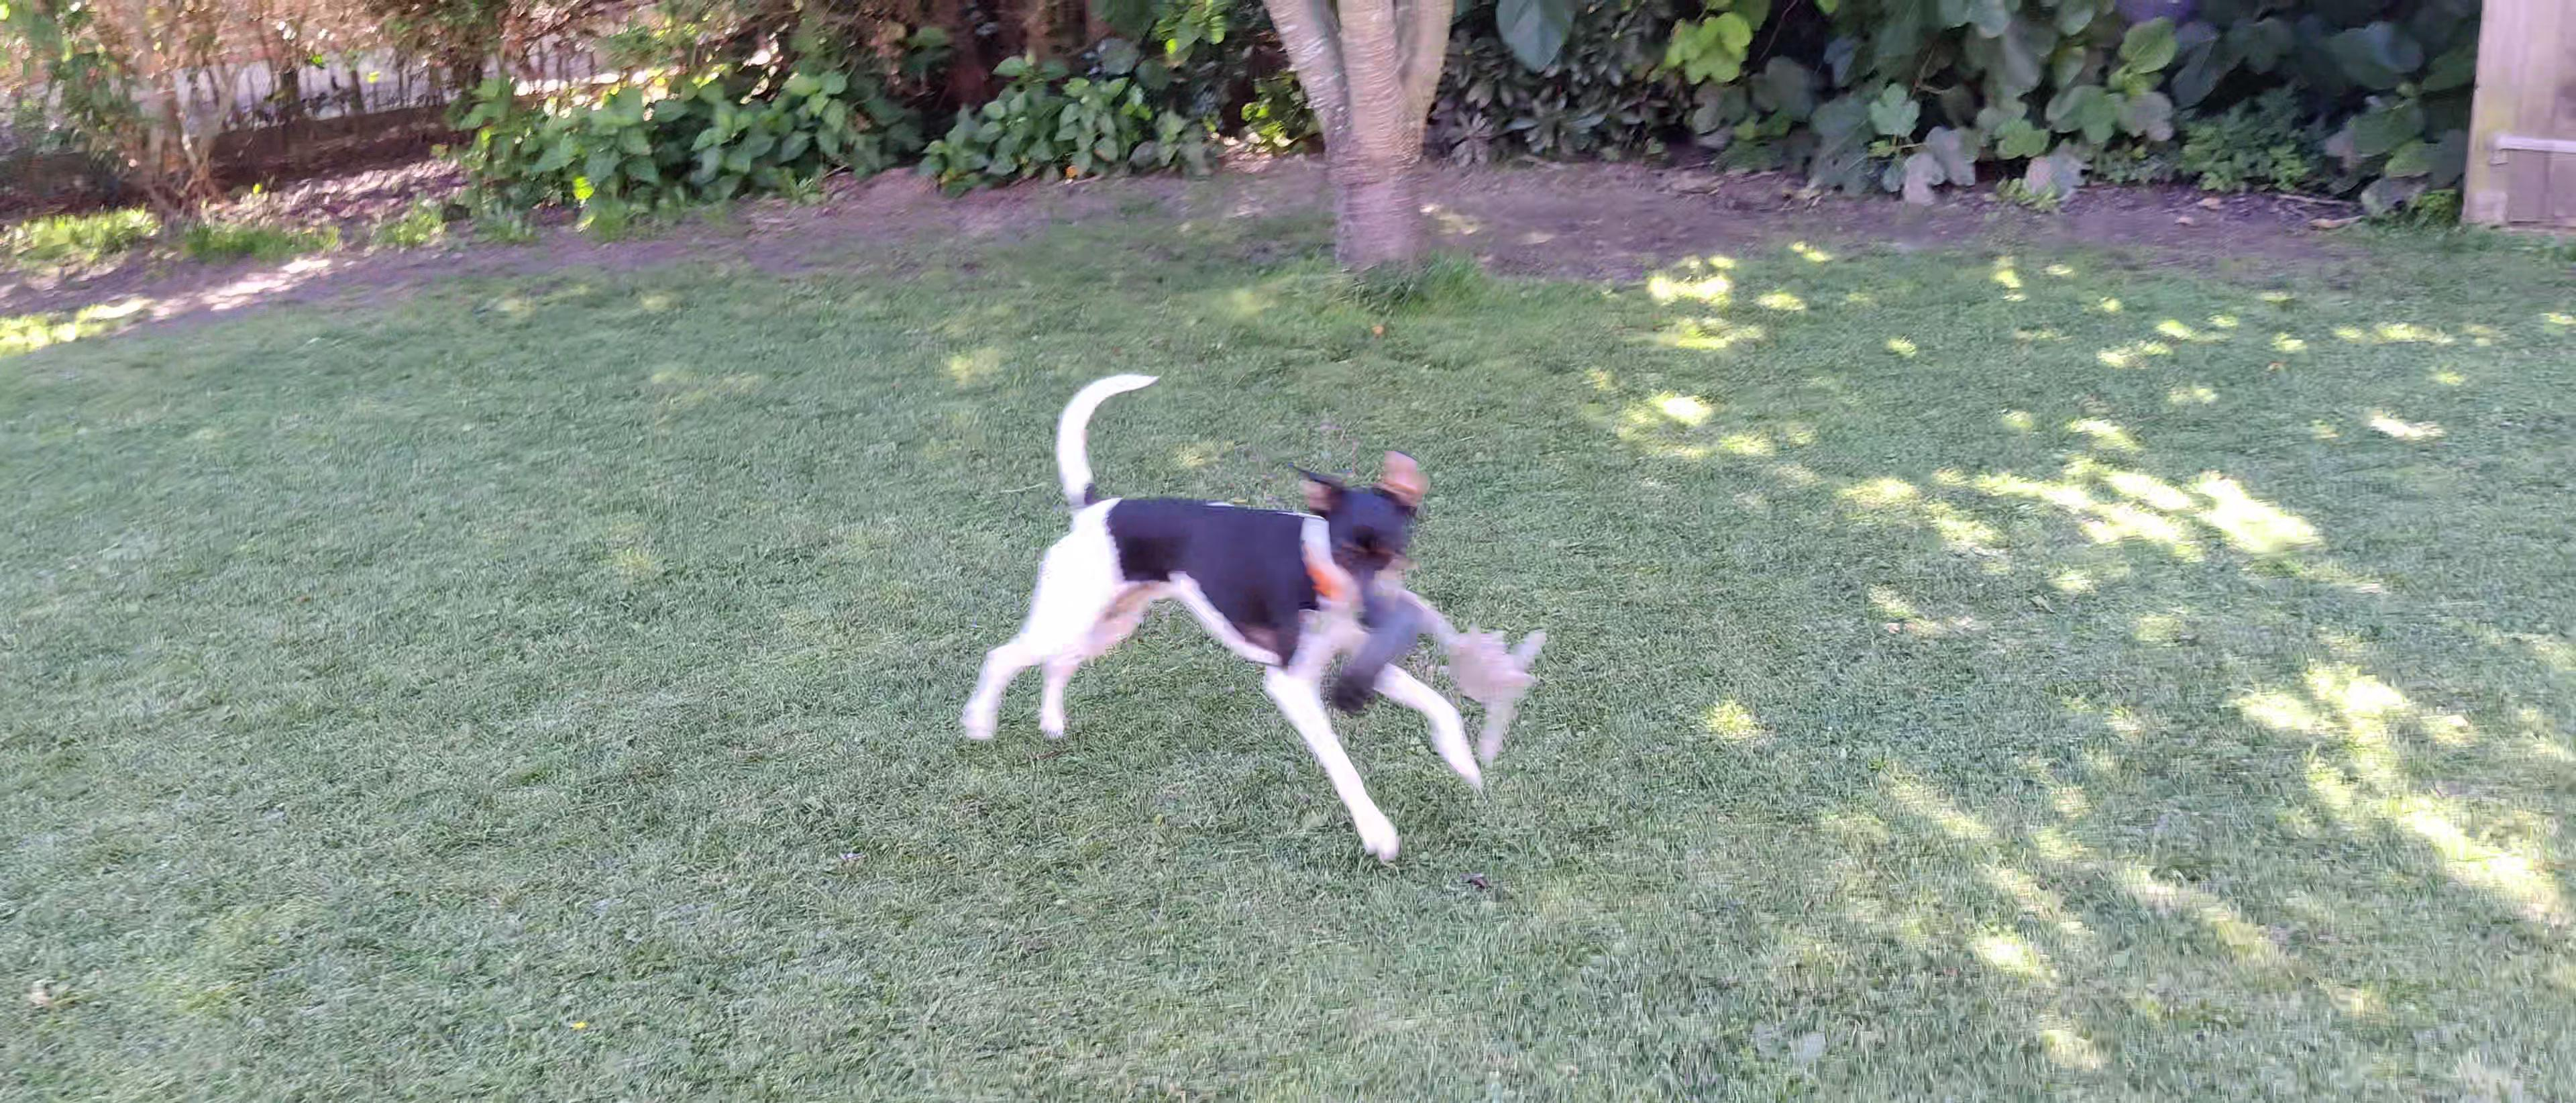Dog: (943, 360, 1490, 873)
